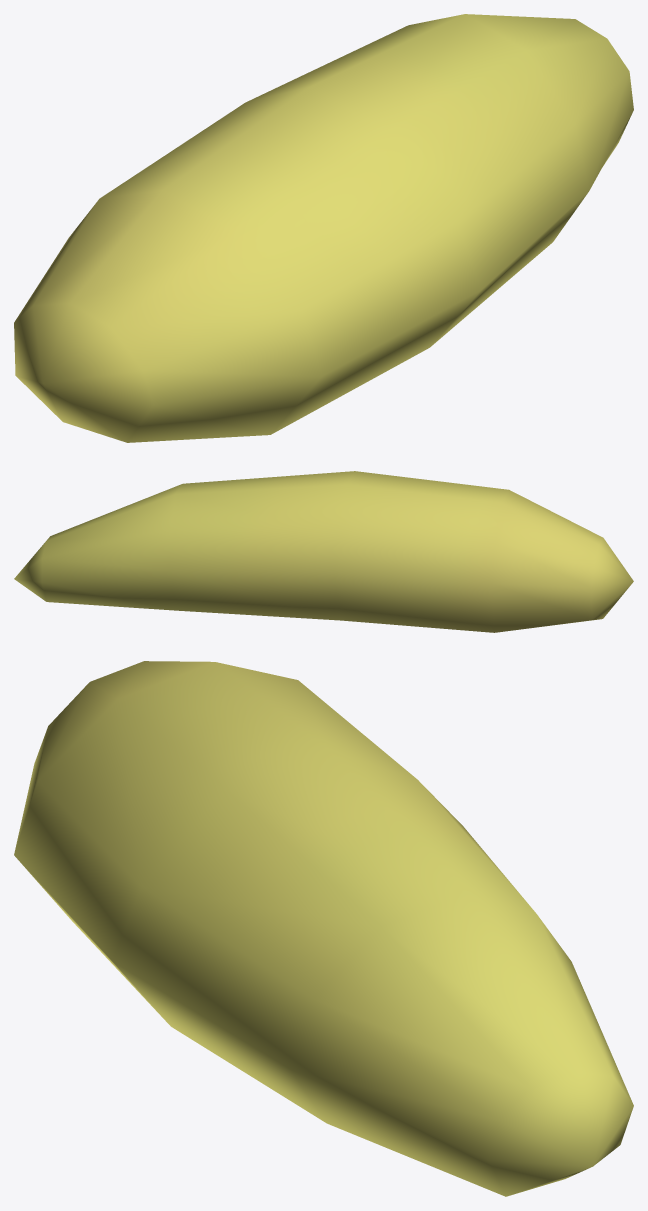
Rendered from PC_Woman_Eyebrow006_R.glb.
3 renders of one model, top to bottom at view 1: azimuth 30°, elevation 25°; view 2: azimuth 150°, elevation 25°; view 3: azimuth 270°, elevation 25°, orthographic. The views are drawn at different scales.
Parts seen in each view (by area): view 1: PC_Woman_Eyebrow006_R_mesh; view 2: PC_Woman_Eyebrow006_R_mesh; view 3: PC_Woman_Eyebrow006_R_mesh.
Part boxes in pixels (x1,y1,x2,y2): PC_Woman_Eyebrow006_R_mesh: (14,14,633,442); PC_Woman_Eyebrow006_R_mesh: (14,471,633,632); PC_Woman_Eyebrow006_R_mesh: (14,661,633,1196).
Size of the model in its own units: 0.1417 by 0.0394 by 0.0866.
1 material, 1 textured.
